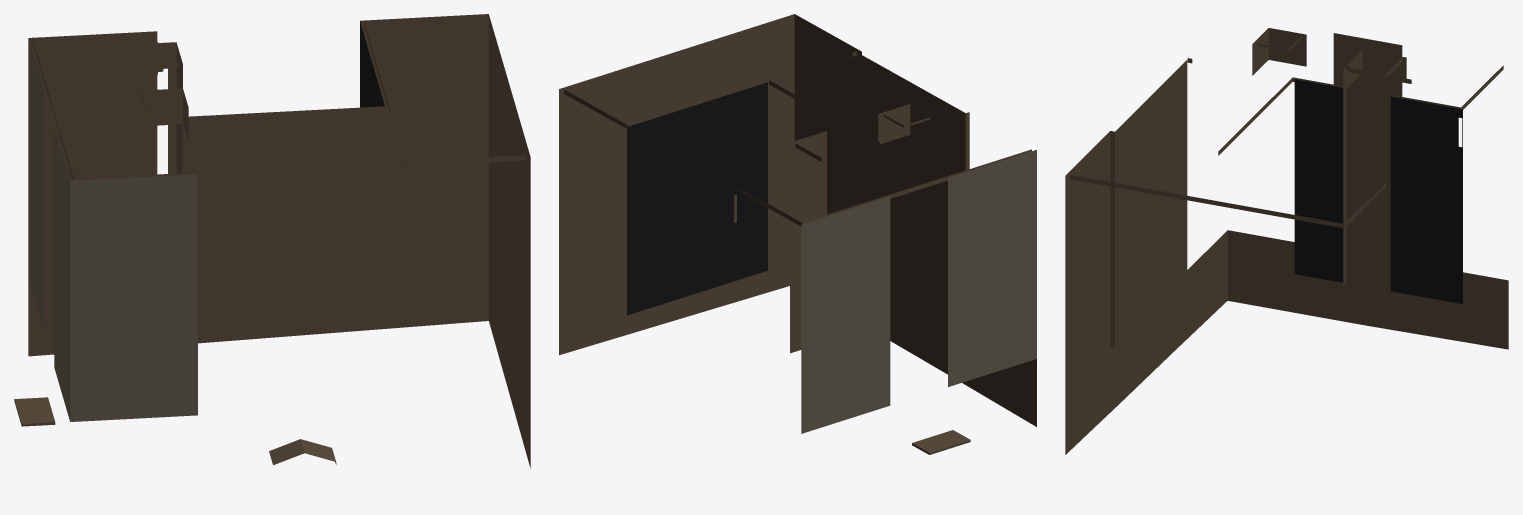
Rendered from patten-towers.glb.
3 views of the same model, side by side, from view 1: azimuth 30°, elevation 25°; view 2: azimuth 150°, elevation 25°; view 3: azimuth 270°, elevation 25° (orthographic). The views are drawn at different scales.
Parts seen in each view (by area): view 1: LOD0; view 2: LOD0; view 3: LOD0.
Part boxes in pixels (bbox=[...]): LOD0: bbox=[14, 14, 530, 468]; LOD0: bbox=[559, 14, 1036, 454]; LOD0: bbox=[1065, 28, 1508, 454].
Size of what is drawn, in the model's own units: 60.46 by 41.8 by 53.4.
2 materials, 2 textured.
